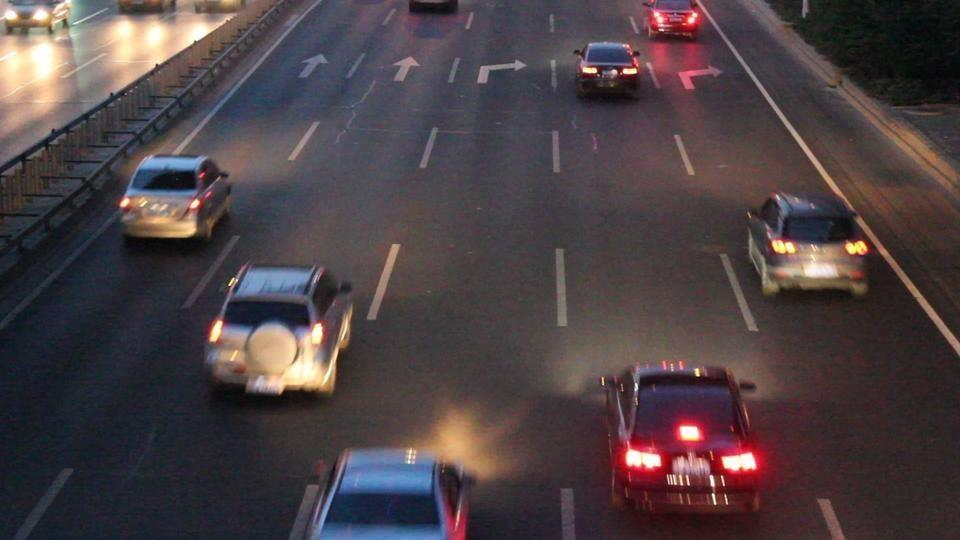car: (604, 361, 771, 517), (202, 262, 355, 399), (288, 446, 474, 540), (746, 191, 873, 300), (117, 153, 234, 243), (575, 42, 644, 98), (1, 0, 71, 36), (643, 0, 704, 41), (117, 0, 178, 18), (408, 0, 460, 16)
